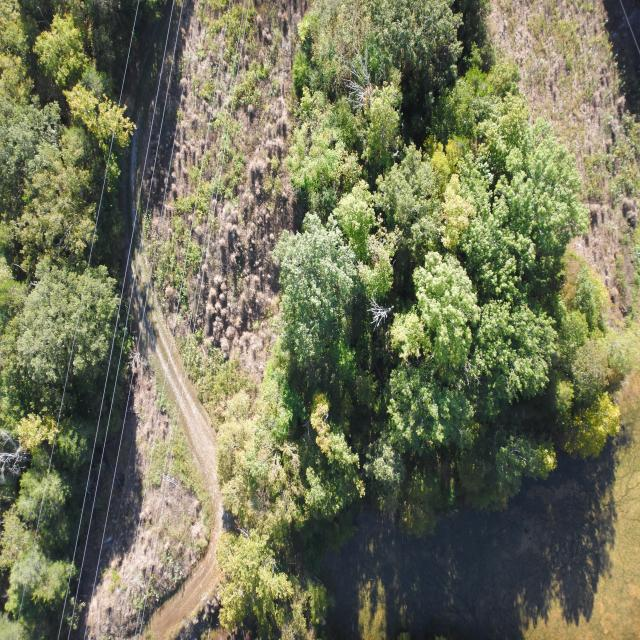Area of Interest: (288, 5, 616, 500), (2, 0, 120, 635)
